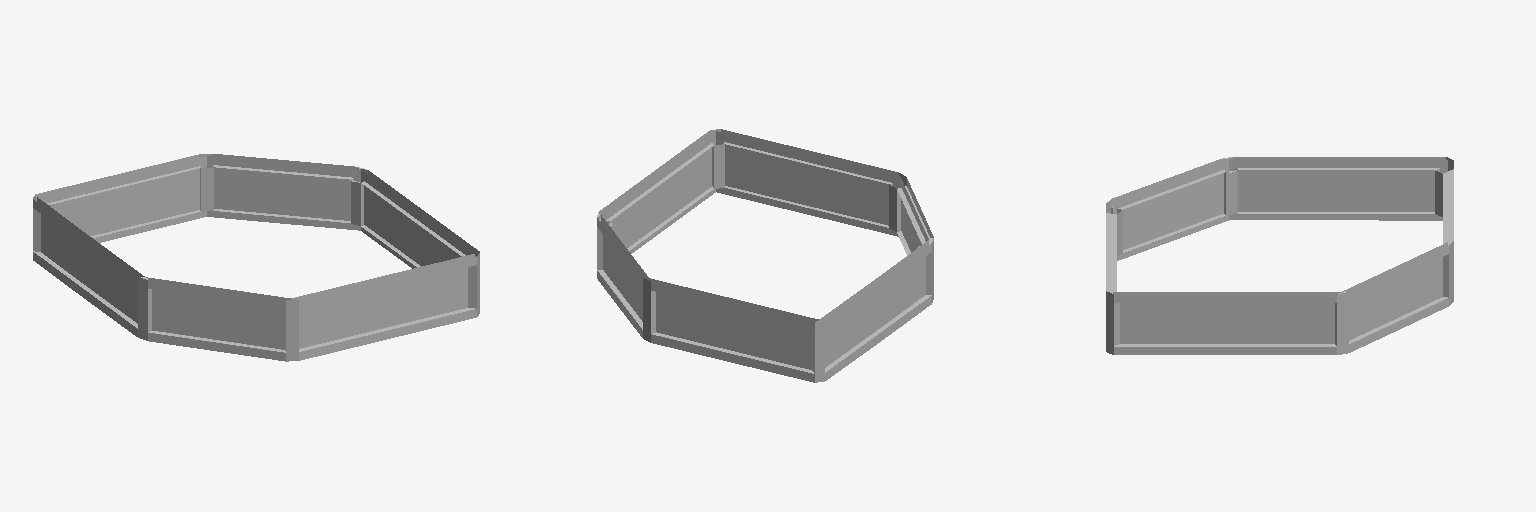
File: building_large_01_mid.obj
The picture shows the model from 3 angles: view 1: azimuth 30°, elevation 25°; view 2: azimuth 150°, elevation 25°; view 3: azimuth 270°, elevation 25°; orthographic projection.
Visible parts, largest first — view 1: Plane.002; view 2: Plane.002; view 3: Plane.002.
Boxes of the visible parts, <box> form: Plane.002: <box>33,154,479,361</box>; Plane.002: <box>597,129,933,382</box>; Plane.002: <box>1106,157,1453,354</box>.
Bounding box in the file's own units: 84.58 × 17.56 × 90.37.